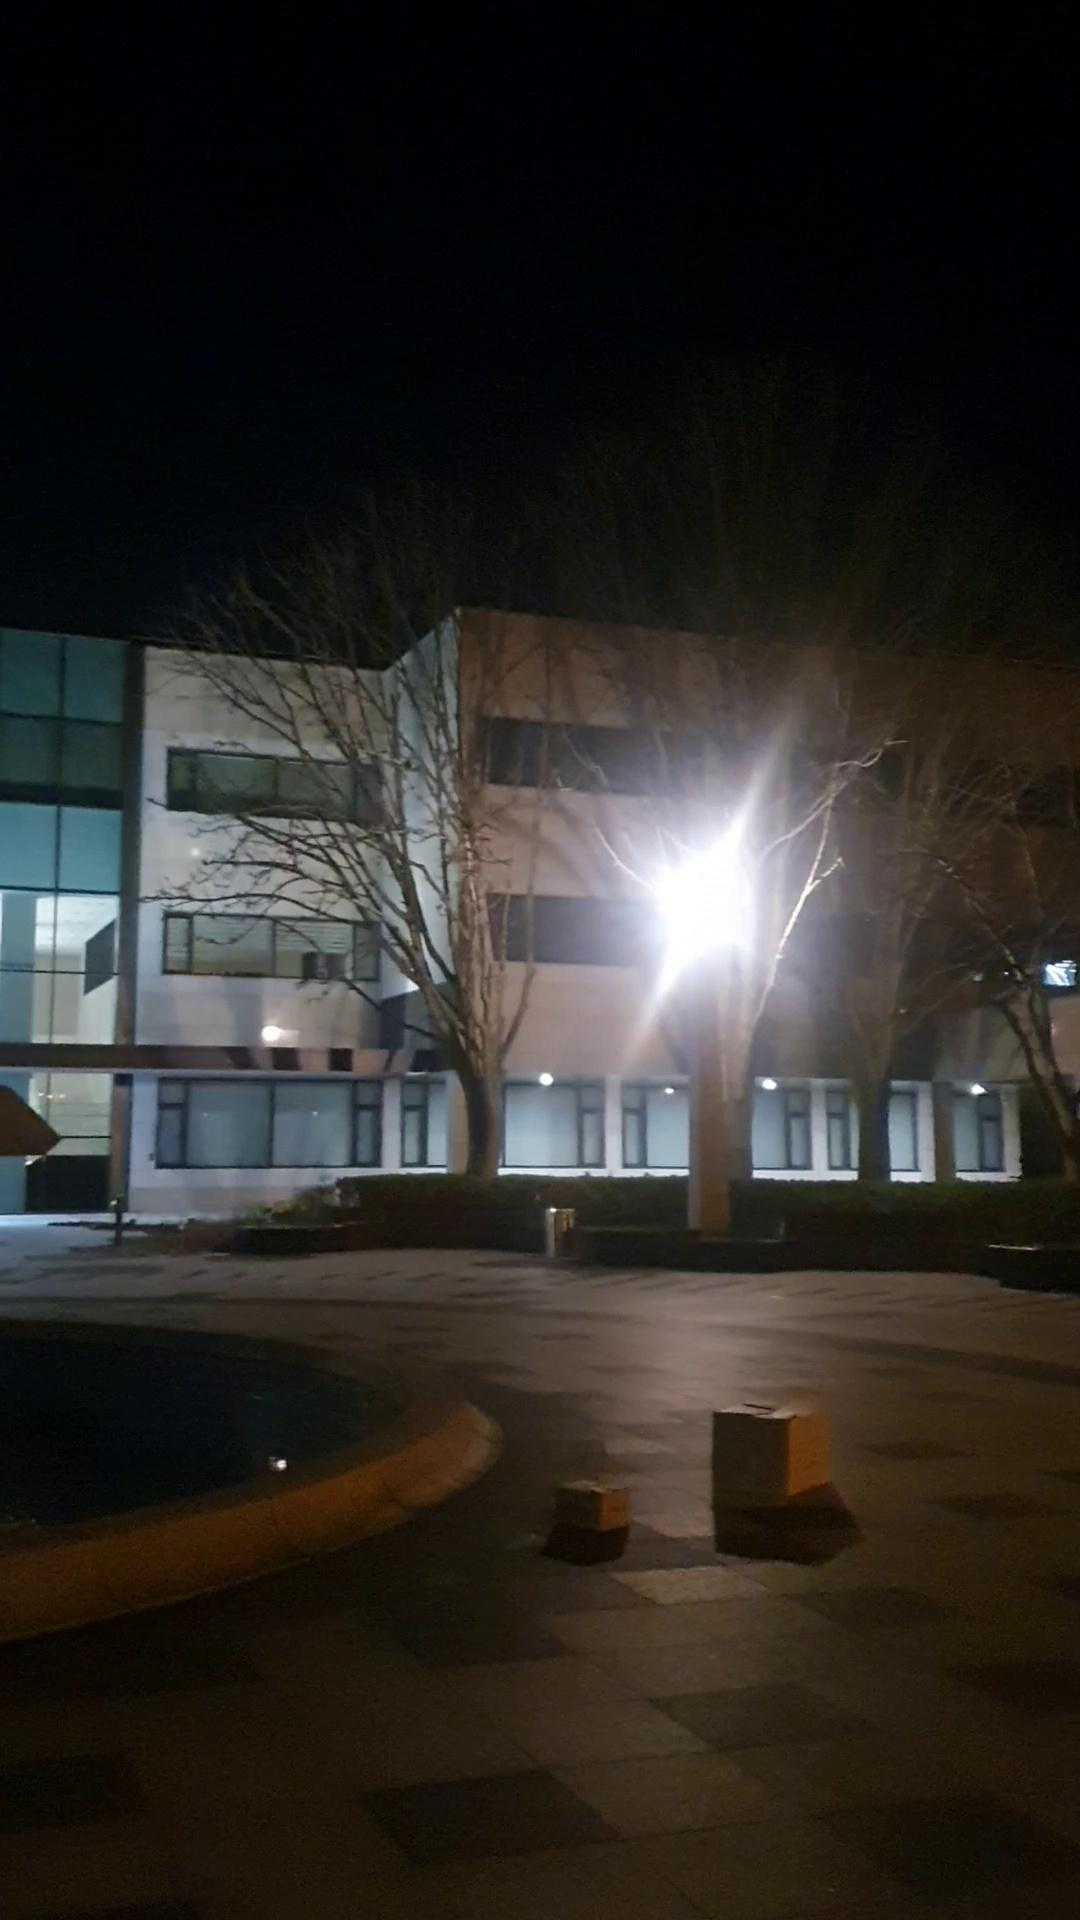Box: (705, 1390, 832, 1515), (546, 1473, 636, 1549)
